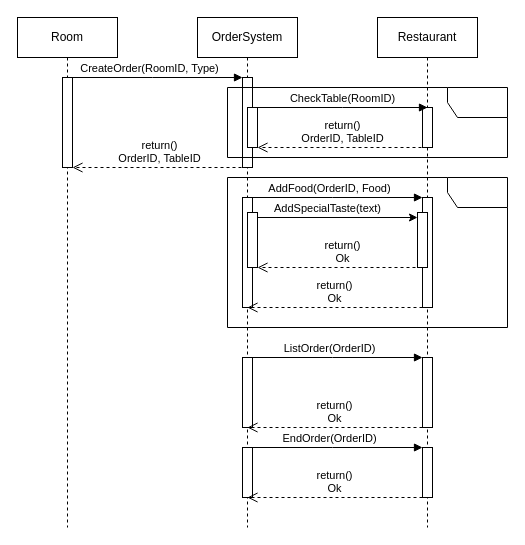
Some shapes in this 525 by 545 pixel diagram are drawn without their labels. Here are the shapes that lost their labels. From the top down, the box of each, then its label:
(226, 86, 508, 158): 可选
(226, 176, 508, 328): 循环
